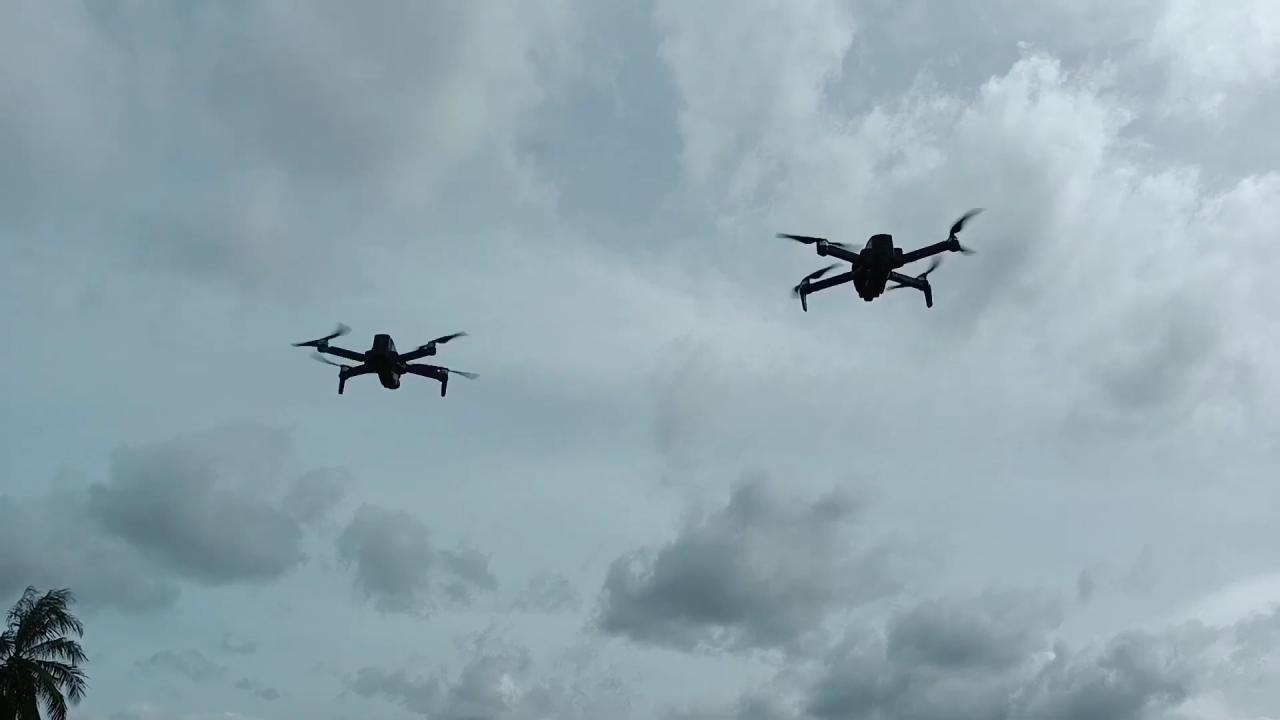Drone: (767, 194, 999, 320), (281, 314, 491, 412)
